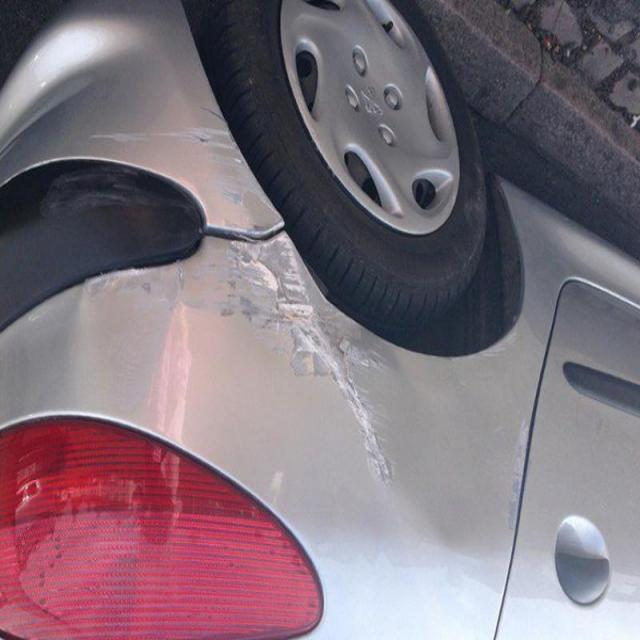scratch: (127, 145, 406, 478)
